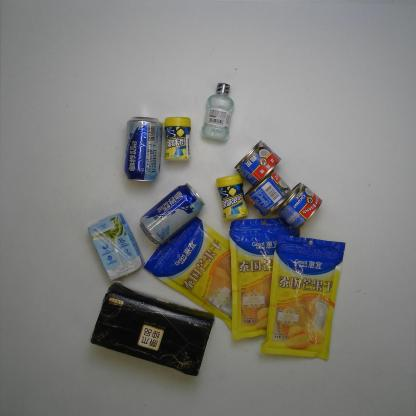Alcohol: (139, 182, 206, 245), (123, 116, 164, 182)
Canned Food: (233, 139, 282, 187), (276, 181, 323, 231), (244, 170, 291, 218)
Dried Fruit: (260, 233, 346, 362), (143, 214, 232, 332), (228, 216, 302, 343)
Gum: (215, 172, 250, 221), (162, 115, 192, 162)
Milk: (87, 212, 146, 283)
Personal Hygiene: (200, 82, 235, 141)
Tissue: (87, 280, 218, 377)
